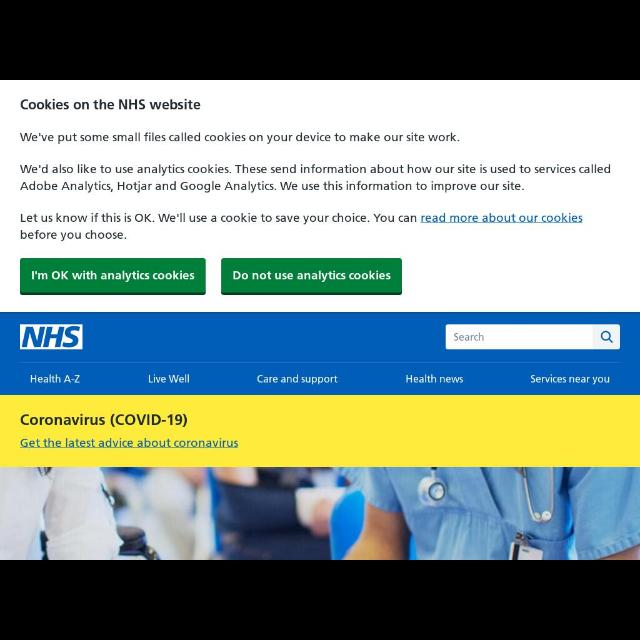icon: (598, 328, 612, 344)
iframe: (1, 82, 639, 310)
image: (1, 468, 638, 558), (14, 324, 84, 351)
input: (449, 325, 621, 351)
link: (20, 438, 238, 450), (421, 213, 584, 225)
multitab: (7, 363, 639, 392)
text: (20, 164, 612, 192), (19, 212, 583, 240), (19, 132, 460, 144), (17, 411, 190, 434), (20, 98, 200, 114), (232, 268, 392, 284), (31, 270, 195, 282), (526, 372, 610, 384), (255, 374, 337, 386), (142, 370, 192, 388), (22, 374, 84, 384), (404, 375, 464, 385), (452, 332, 484, 342)
